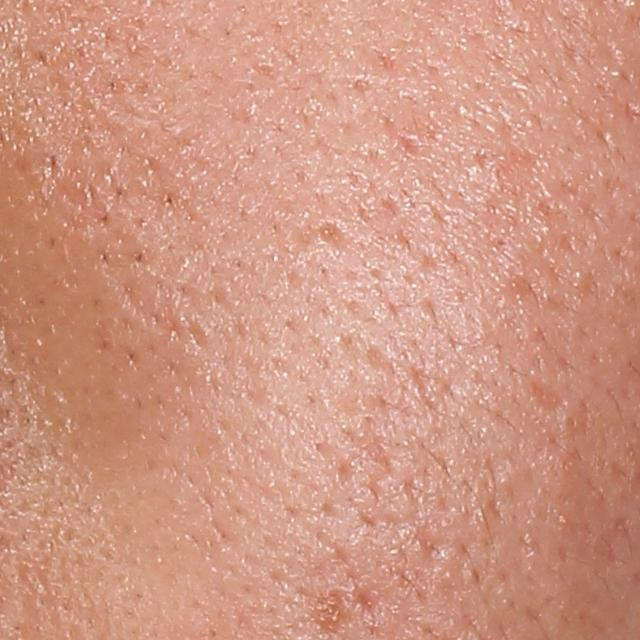atrophic_scar: (521, 374, 567, 417), (312, 218, 351, 253), (354, 585, 384, 619)
